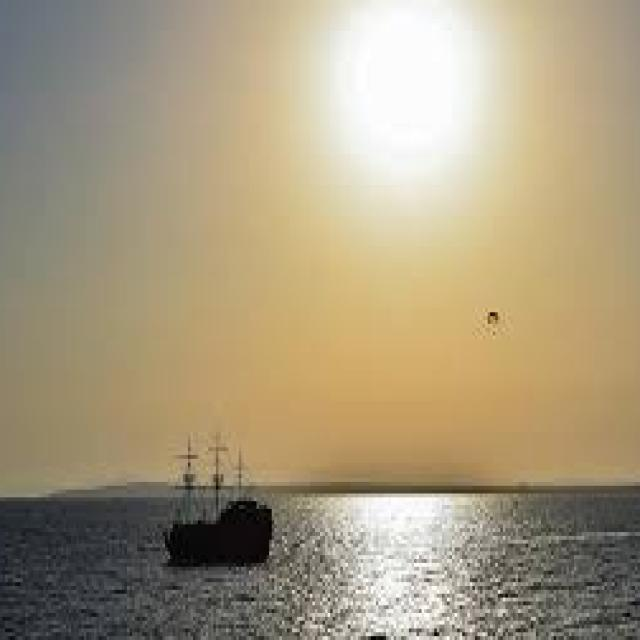fishing boat: (165, 431, 278, 568)
